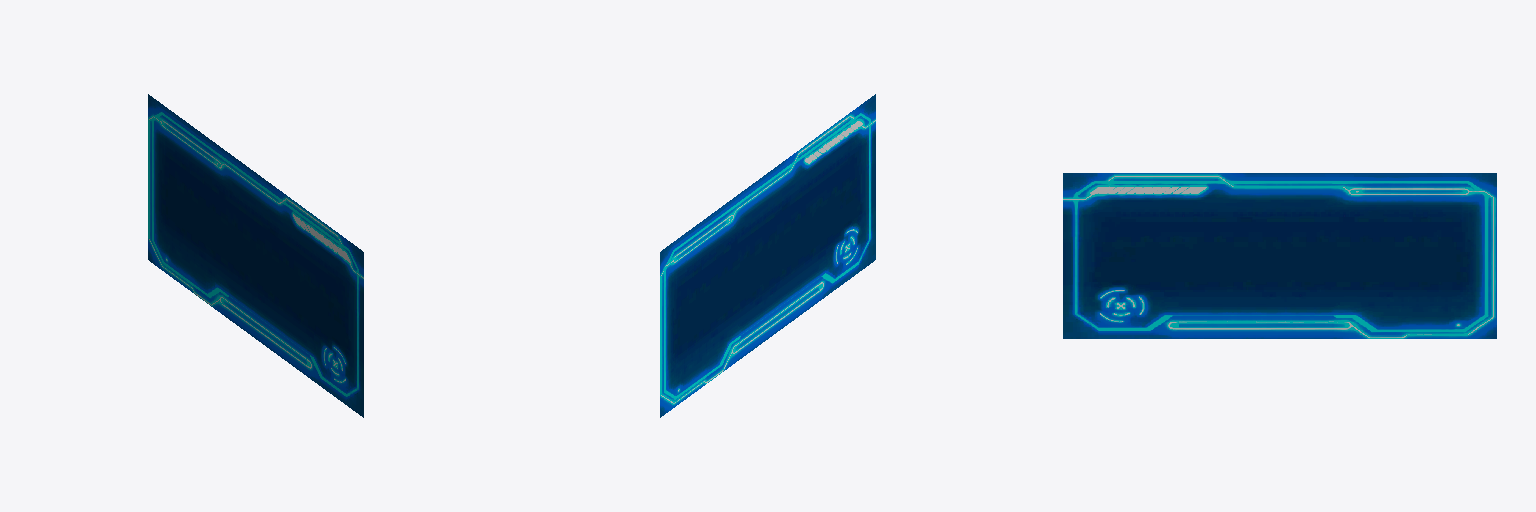
The picture shows the model from 3 angles: view 1: azimuth 30°, elevation 25°; view 2: azimuth 150°, elevation 25°; view 3: azimuth 270°, elevation 25°; orthographic projection.
Visible parts, largest first — view 1: Piano; view 2: Piano; view 3: Piano.
Boxes of the visible parts, box(x1,y1,x2,y2) form: Piano: box(148, 94, 363, 417); Piano: box(660, 94, 875, 417); Piano: box(1063, 173, 1496, 338).
Size of the model in its own units: 0 by 0.4642 by 1.1.
1 materials, 1 textured.